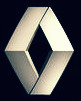Renault: (2, 3, 78, 100)
